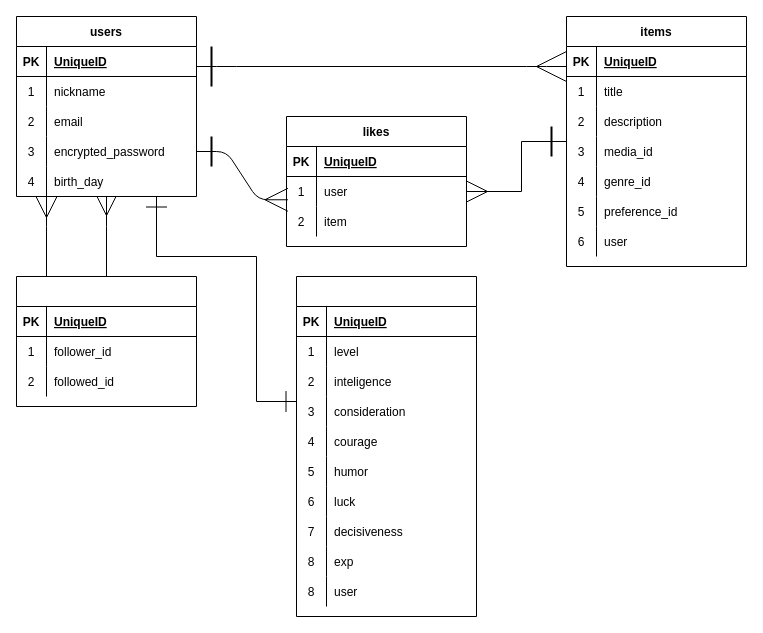
The diagram is 763 pixels wide and 633 high, and some of its shapes have lost their labels. The box of each missing label's shape, as (x1, y1, x2, y2) in pixels:
relationships: (16, 276, 196, 406)
status: (296, 276, 476, 616)
